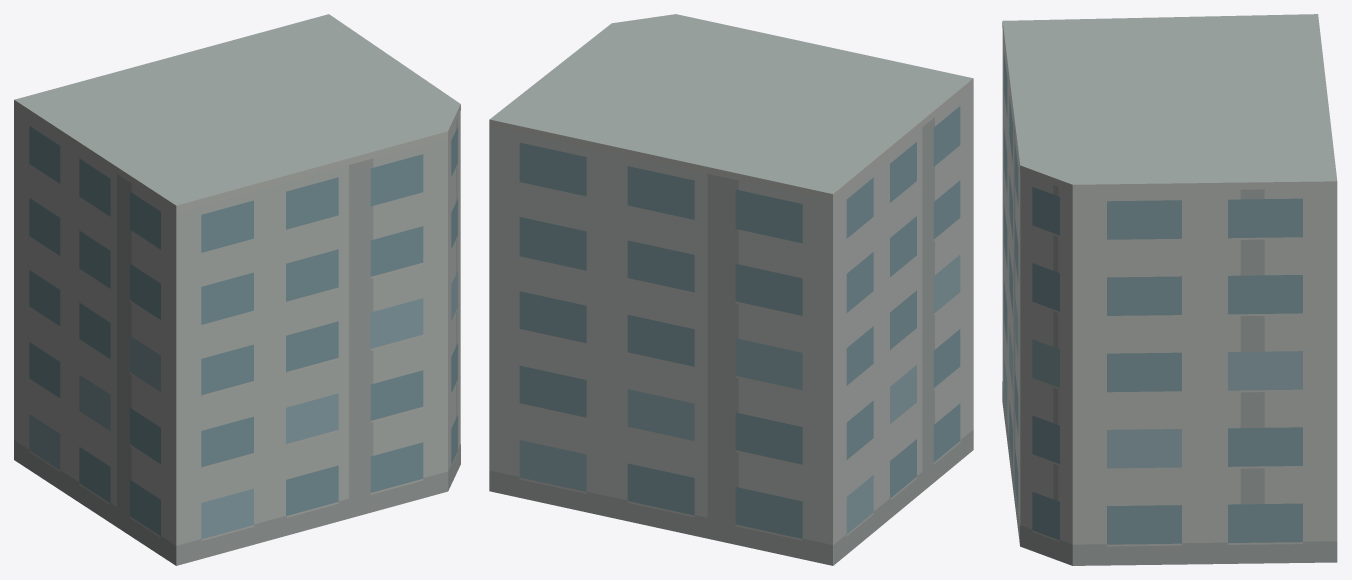
Rendered from survey-upis-32986846.glb.
3 renders of one model, left to right at view 1: azimuth 30°, elevation 25°; view 2: azimuth 150°, elevation 25°; view 3: azimuth 270°, elevation 25°, orthographic. The views are drawn at different scales.
Parts seen in each view (by area): view 1: survey-upis-32986846.tmp; view 2: survey-upis-32986846.tmp; view 3: survey-upis-32986846.tmp.
Boxes of the visible parts, x1=… form: survey-upis-32986846.tmp: x1=14, y1=14, x2=460, y2=565; survey-upis-32986846.tmp: x1=489, y1=14, x2=973, y2=565; survey-upis-32986846.tmp: x1=1002, y1=14, x2=1337, y2=565.
Bounding box in the file's own units: 12.6 × 13.1 × 10.44.
